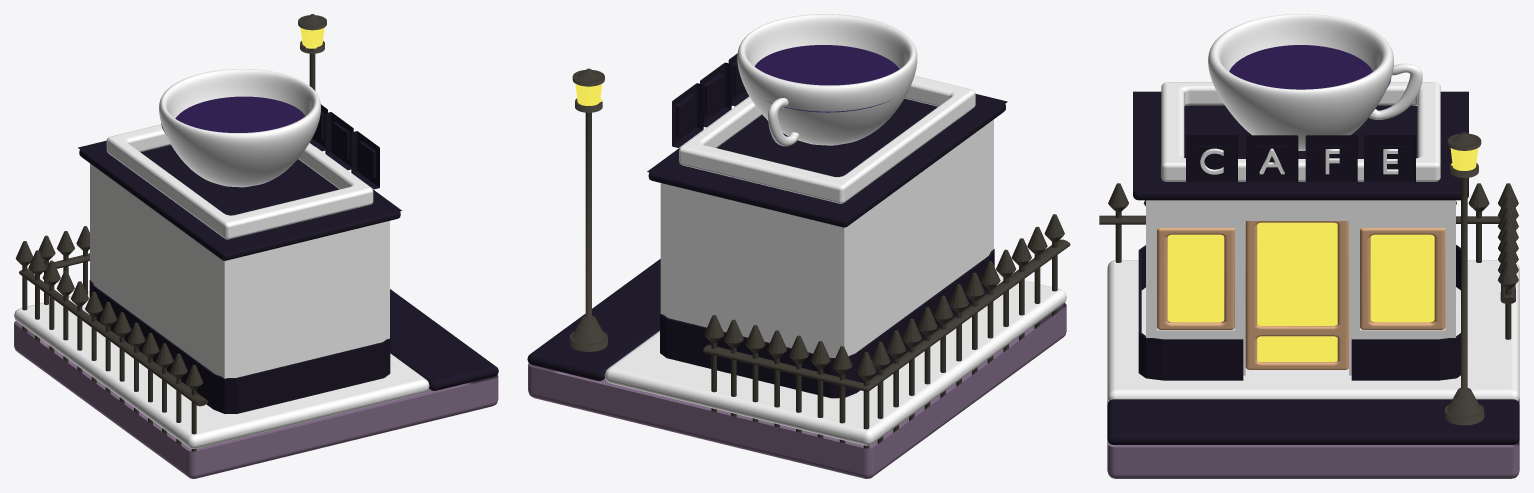
Rendered from cafe_gltf.gltf.
3 renders of one model, left to right at view 1: azimuth 30°, elevation 25°; view 2: azimuth 150°, elevation 25°; view 3: azimuth 270°, elevation 25°, orthographic. The views are drawn at different scales.
Parts seen in each view (by area): view 1: Plane.004, Plane, Plane.002, cup, Plane.012, Plane.006, Plane.013, railing, Plane.001, Plane.005, Circle.002, Plane.009 (+3 smaller); view 2: Plane.004, Plane, Plane.002, cup, railing, Plane.006, Plane.013, Plane.012, Plane.001, Plane.005, Circle.002, Plane.009 (+4 smaller); view 3: Plane.010, Plane.002, Plane.001, cup, Plane.004, Plane, Plane.012, Plane.013, Plane.006, Plane.007, Plane.005, Plane.008 (+9 smaller).
Boxes of the visible parts, <box> form: Plane.004: <box>90,163,389,378</box>; Plane: <box>14,321,498,478</box>; Plane.002: <box>14,291,429,448</box>; cup: <box>159,69,320,187</box>; Plane.012: <box>89,280,390,413</box>; Plane.006: <box>106,124,373,239</box>; Plane.013: <box>78,140,401,254</box>; railing: <box>15,226,203,451</box>; Plane.001: <box>390,289,498,390</box>; Plane.005: <box>79,150,400,260</box>; Circle.002: <box>161,96,305,134</box>; Plane.009: <box>19,253,208,406</box>; Plane.004: <box>660,119,993,357</box>; Plane: <box>528,303,1066,478</box>; Plane.002: <box>604,274,1066,445</box>; cup: <box>737,14,917,146</box>; railing: <box>704,214,1064,448</box>; Plane.006: <box>679,75,975,203</box>; Plane.013: <box>647,94,1007,220</box>; Plane.012: <box>660,249,994,398</box>; Plane.001: <box>527,259,660,380</box>; Plane.005: <box>648,104,1005,227</box>; Circle.002: <box>754,45,899,112</box>; Plane.009: <box>703,239,1070,391</box>; Plane.010: <box>1157,222,1445,368</box>; Plane.002: <box>1107,260,1519,401</box>; Plane.001: <box>1107,399,1519,444</box>; cup: <box>1208,14,1422,150</box>; Plane.004: <box>1146,200,1455,375</box>; Plane: <box>1107,398,1519,478</box>; Plane.012: <box>1138,245,1460,380</box>; Plane.013: <box>1133,91,1468,191</box>; Plane.006: <box>1161,82,1440,181</box>; Plane.007: <box>1157,228,1445,329</box>; Plane.005: <box>1133,157,1468,200</box>; Plane.008: <box>1245,221,1348,369</box>.
Size of the model in its own units: 8 by 7.08 by 8.16.
